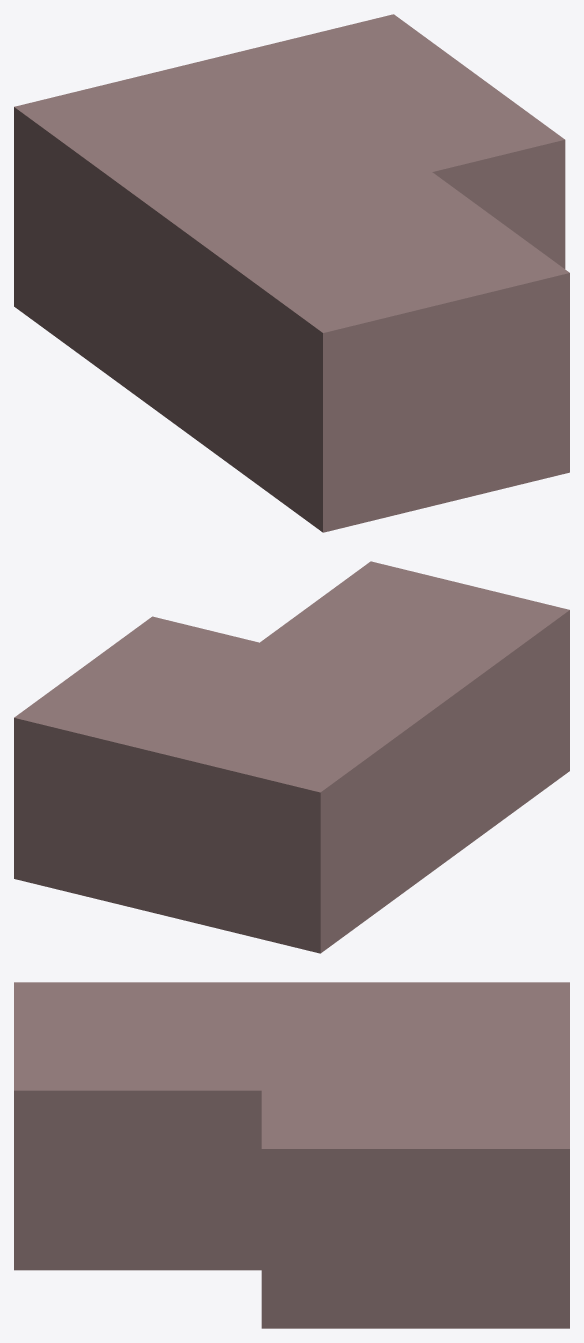
3 views of the same model, one above another, from view 1: azimuth 30°, elevation 25°; view 2: azimuth 150°, elevation 25°; view 3: azimuth 270°, elevation 25° (orthographic). The views are drawn at different scales.
Visible parts, largest first — view 1: Object_1; view 2: Object_1; view 3: Object_1.
Part boxes in pixels (<box>): Object_1: <box>14,14,569,532</box>; Object_1: <box>14,561,569,953</box>; Object_1: <box>14,982,569,1328</box>.
Size of the model in its own units: 536 by 269 by 756.
